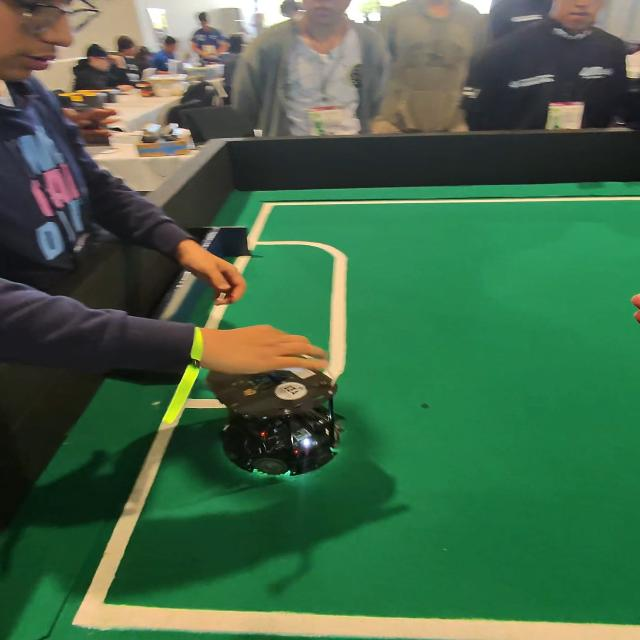Robot: (190, 360, 412, 496)
